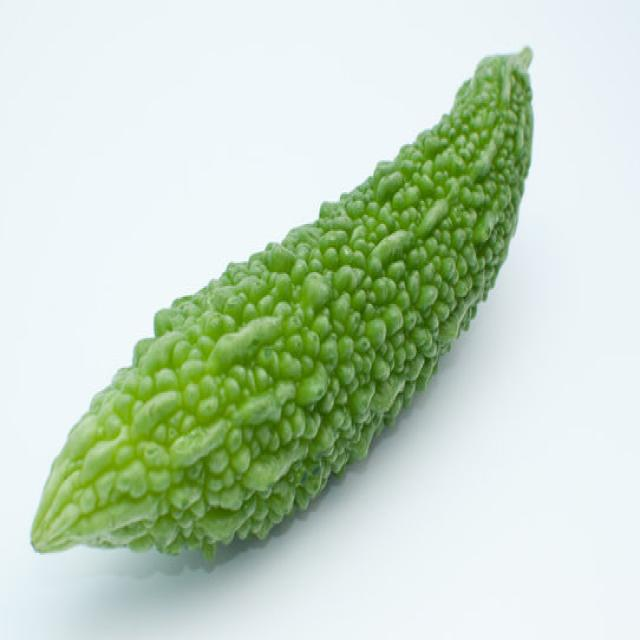Bitter_Gourd: (29, 43, 535, 560)
